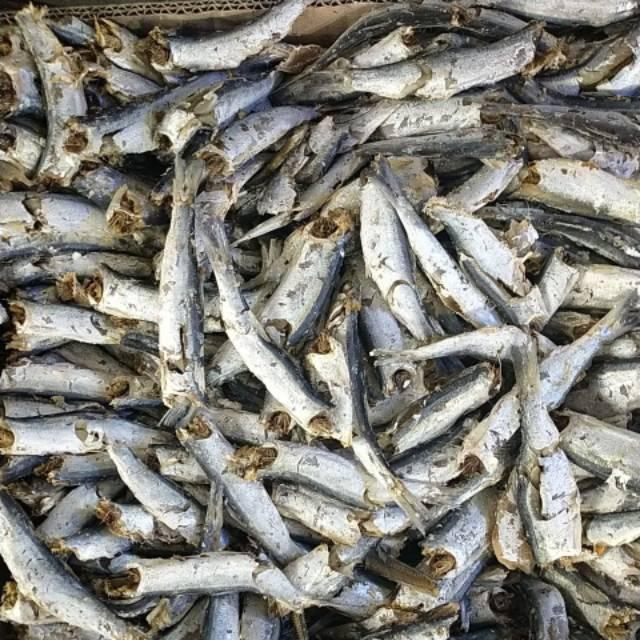Organik: (8, 4, 636, 637)
